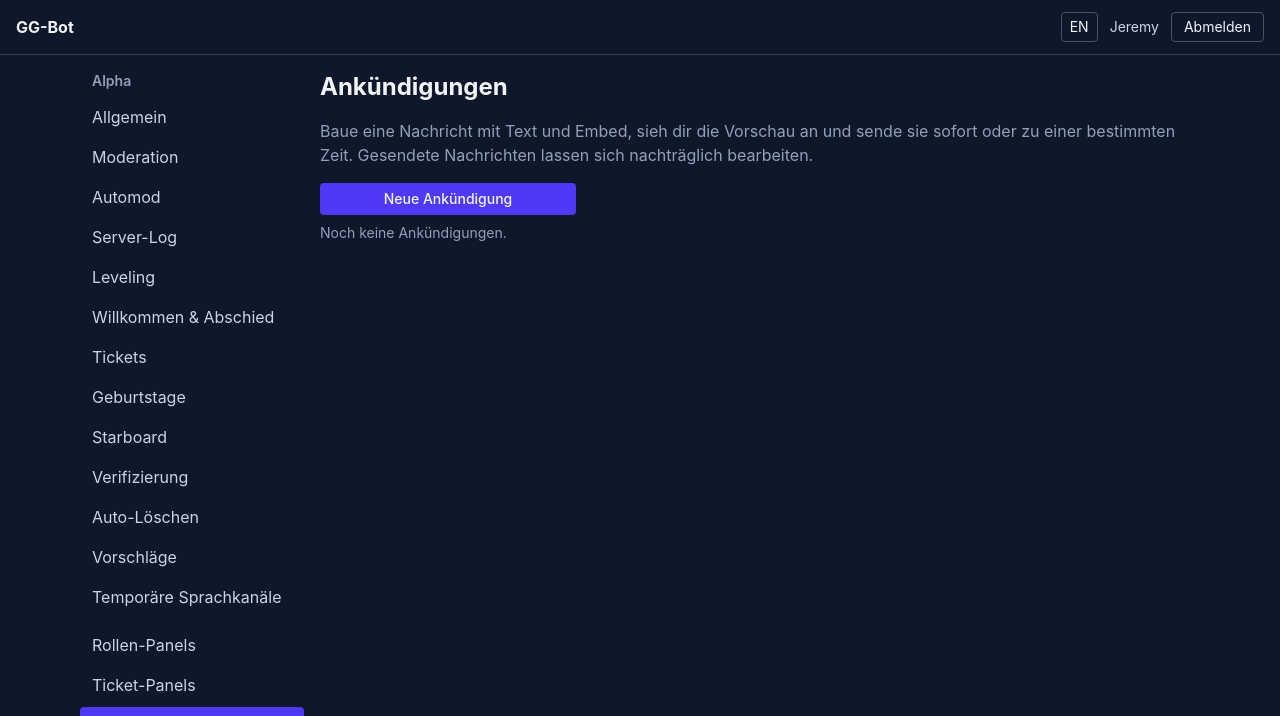
it: Ankündigungen › legt eine Ankündigung an und schickt Text und Embed an die API
expect the text "Noch keine Ankündigungen." is shown: met, box [320,224,507,241]
Click the button "Neue Ankündigung" at (448, 199), box [320,183,576,215]
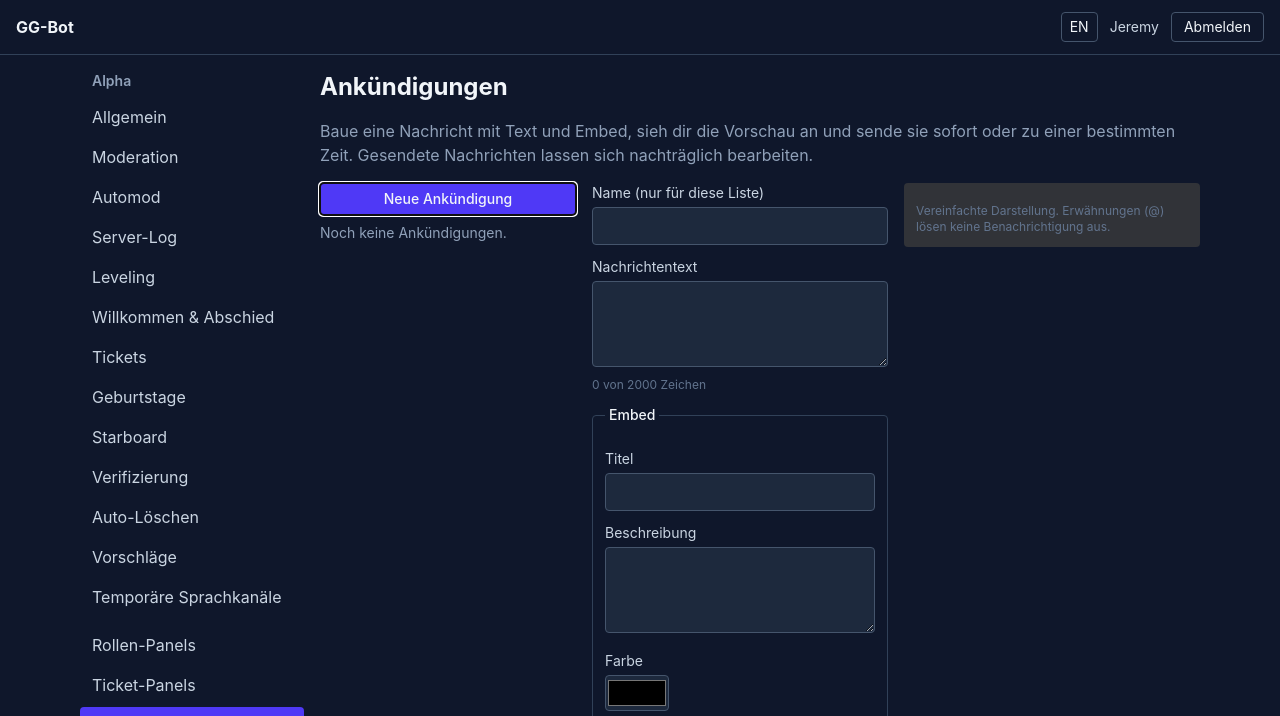
Type "Start" into the field labelled "Name (nur für diese Liste)" at (740, 226), box [592,207,888,245]
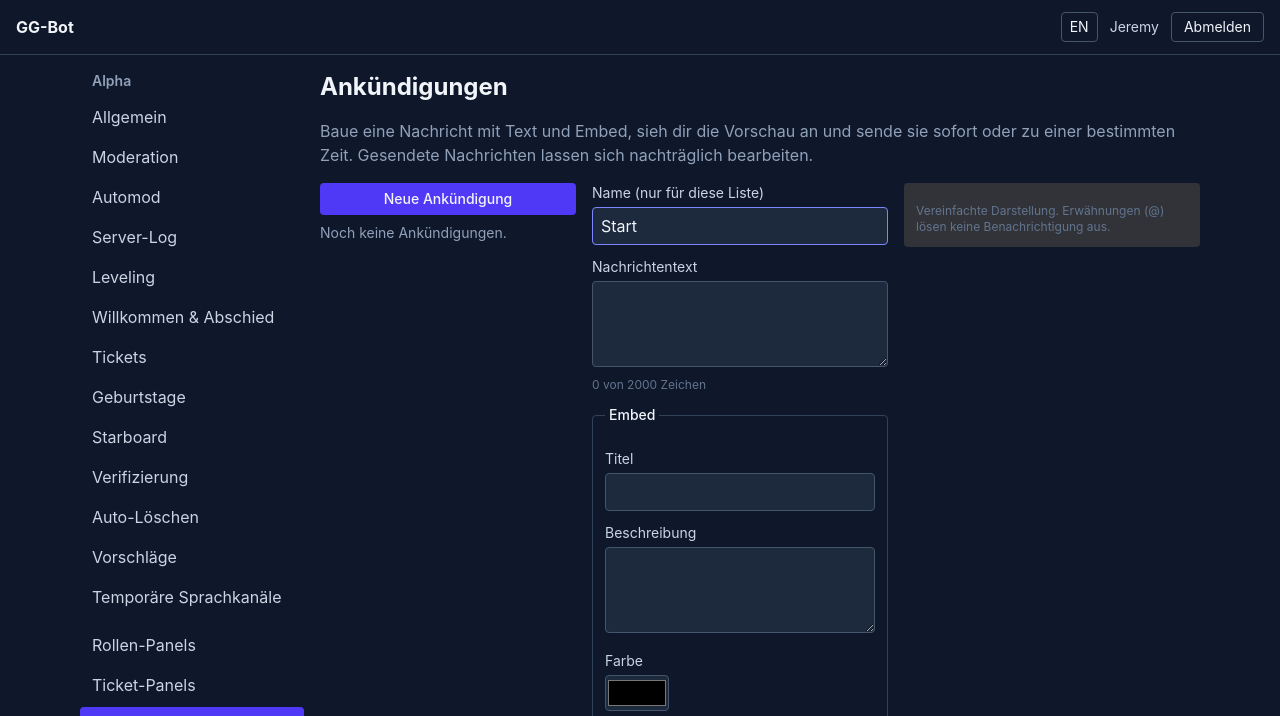
Type "Hallo" into the text box labelled "Nachrichtentext" at (740, 324), box [592,281,888,367]
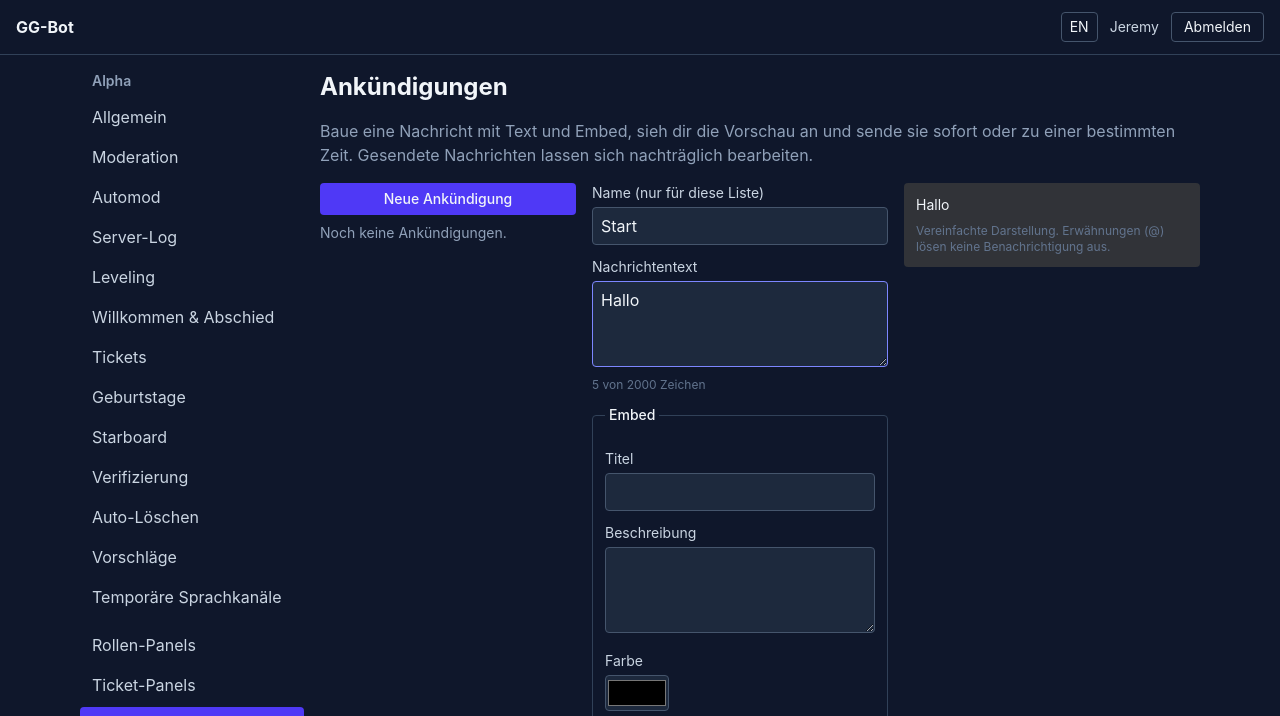
Type "Eröffnung" into the field labelled "Titel" at (740, 492), box [605,473,875,511]
(page scrolled)
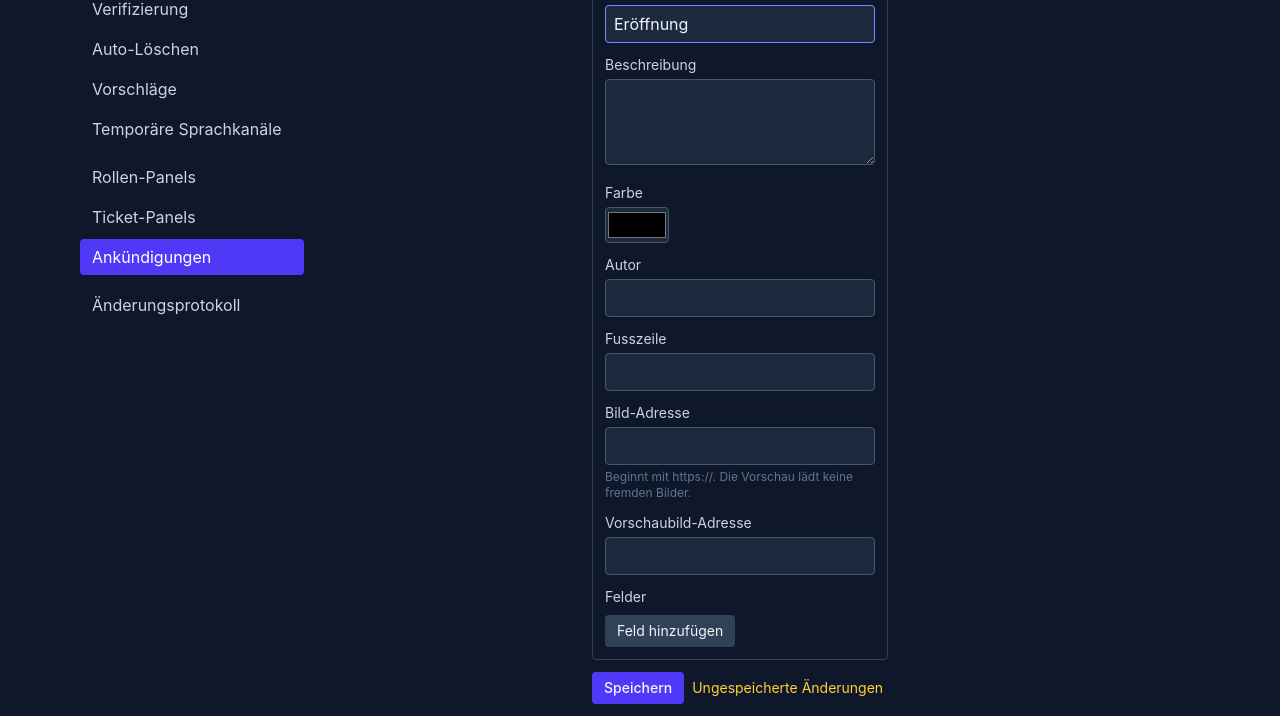
Click the button "Speichern" at (638, 688), box [592,672,684,704]
(page scrolled)
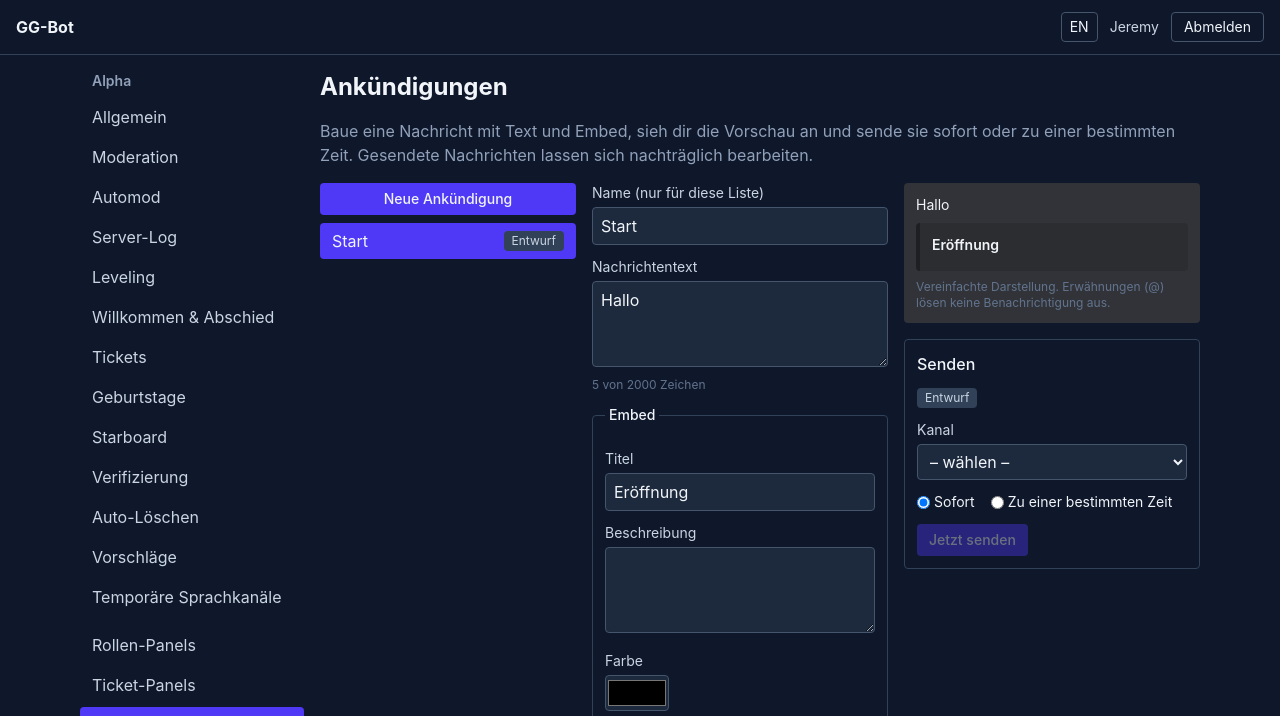
expect the text "Start" is shown: met, box [332,229,368,253]
expect the 1st text "Entwurf" is shown: met, box [504,231,564,251]
